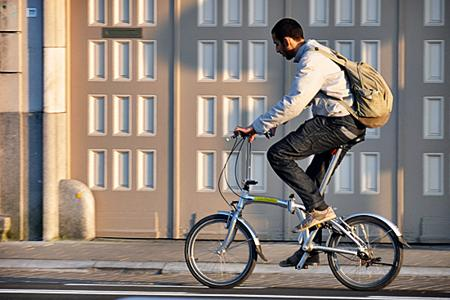person: (232, 18, 396, 271)
